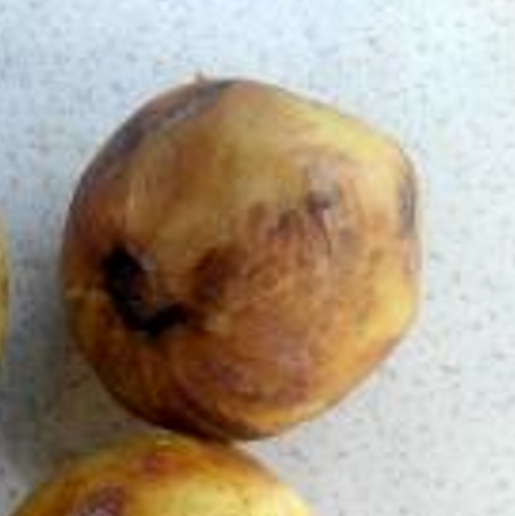guava_C: (57, 73, 425, 443)
